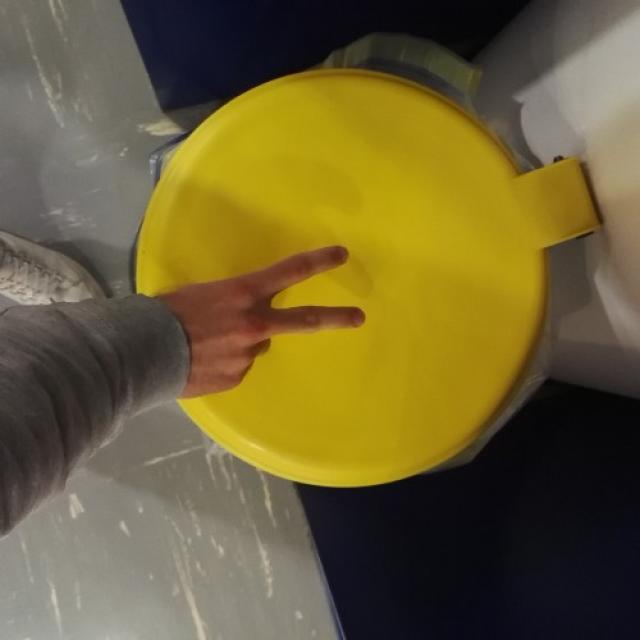scissors: (144, 245, 369, 393)
